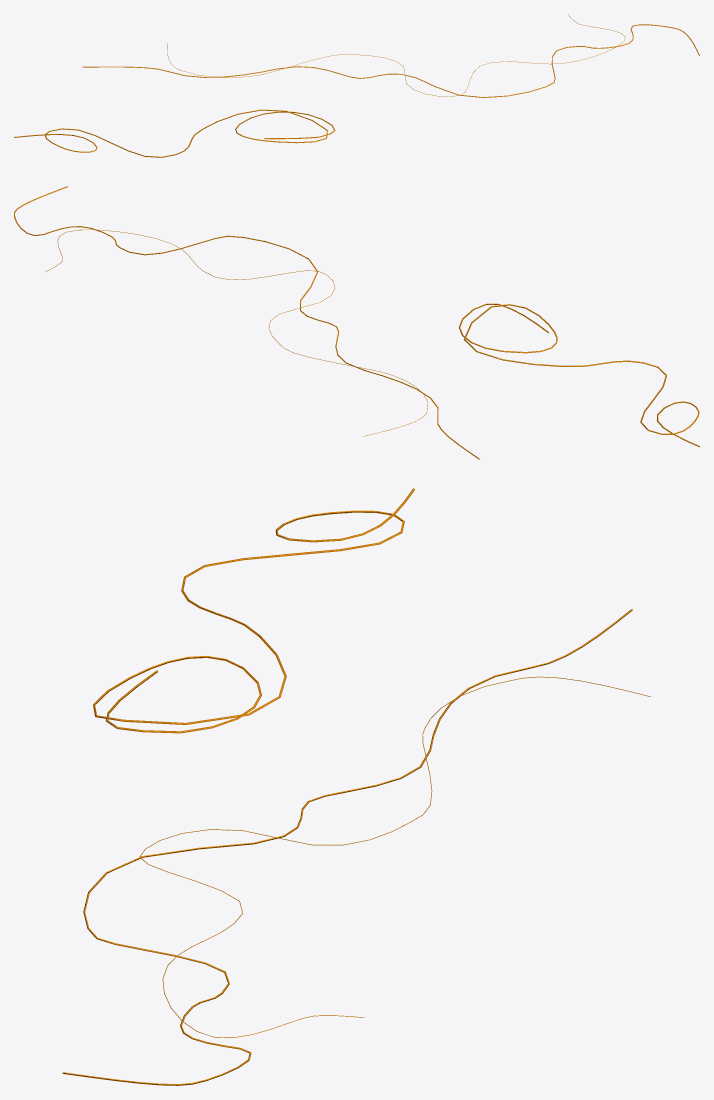
Rendered from Wires.FBX.
The picture shows the model from 3 angles, top to bottom: view 1: azimuth 30°, elevation 25°; view 2: azimuth 150°, elevation 25°; view 3: azimuth 270°, elevation 25°; orthographic projection. The views are drawn at different scales.
Visible parts, largest first — view 1: tros_1, tros_2; view 2: tros_1, tros_2; view 3: tros_1, tros_2.
Part boxes in pixels (x1=…): tros_1: x1=82, y1=14, x2=699, y2=97; tros_2: x1=14, y1=109, x2=335, y2=157; tros_1: x1=14, y1=186, x2=479, y2=459; tros_2: x1=459, y1=303, x2=699, y2=447; tros_1: x1=62, y1=609, x2=650, y2=1085; tros_2: x1=93, y1=488, x2=414, y2=733.
Bounding box in the file's own units: 19.06 × 0.0757 × 7.96.
